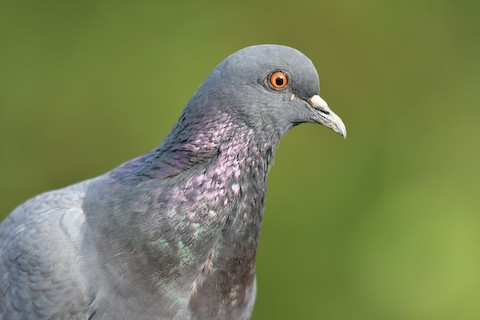pigeon: (10, 39, 351, 307)
